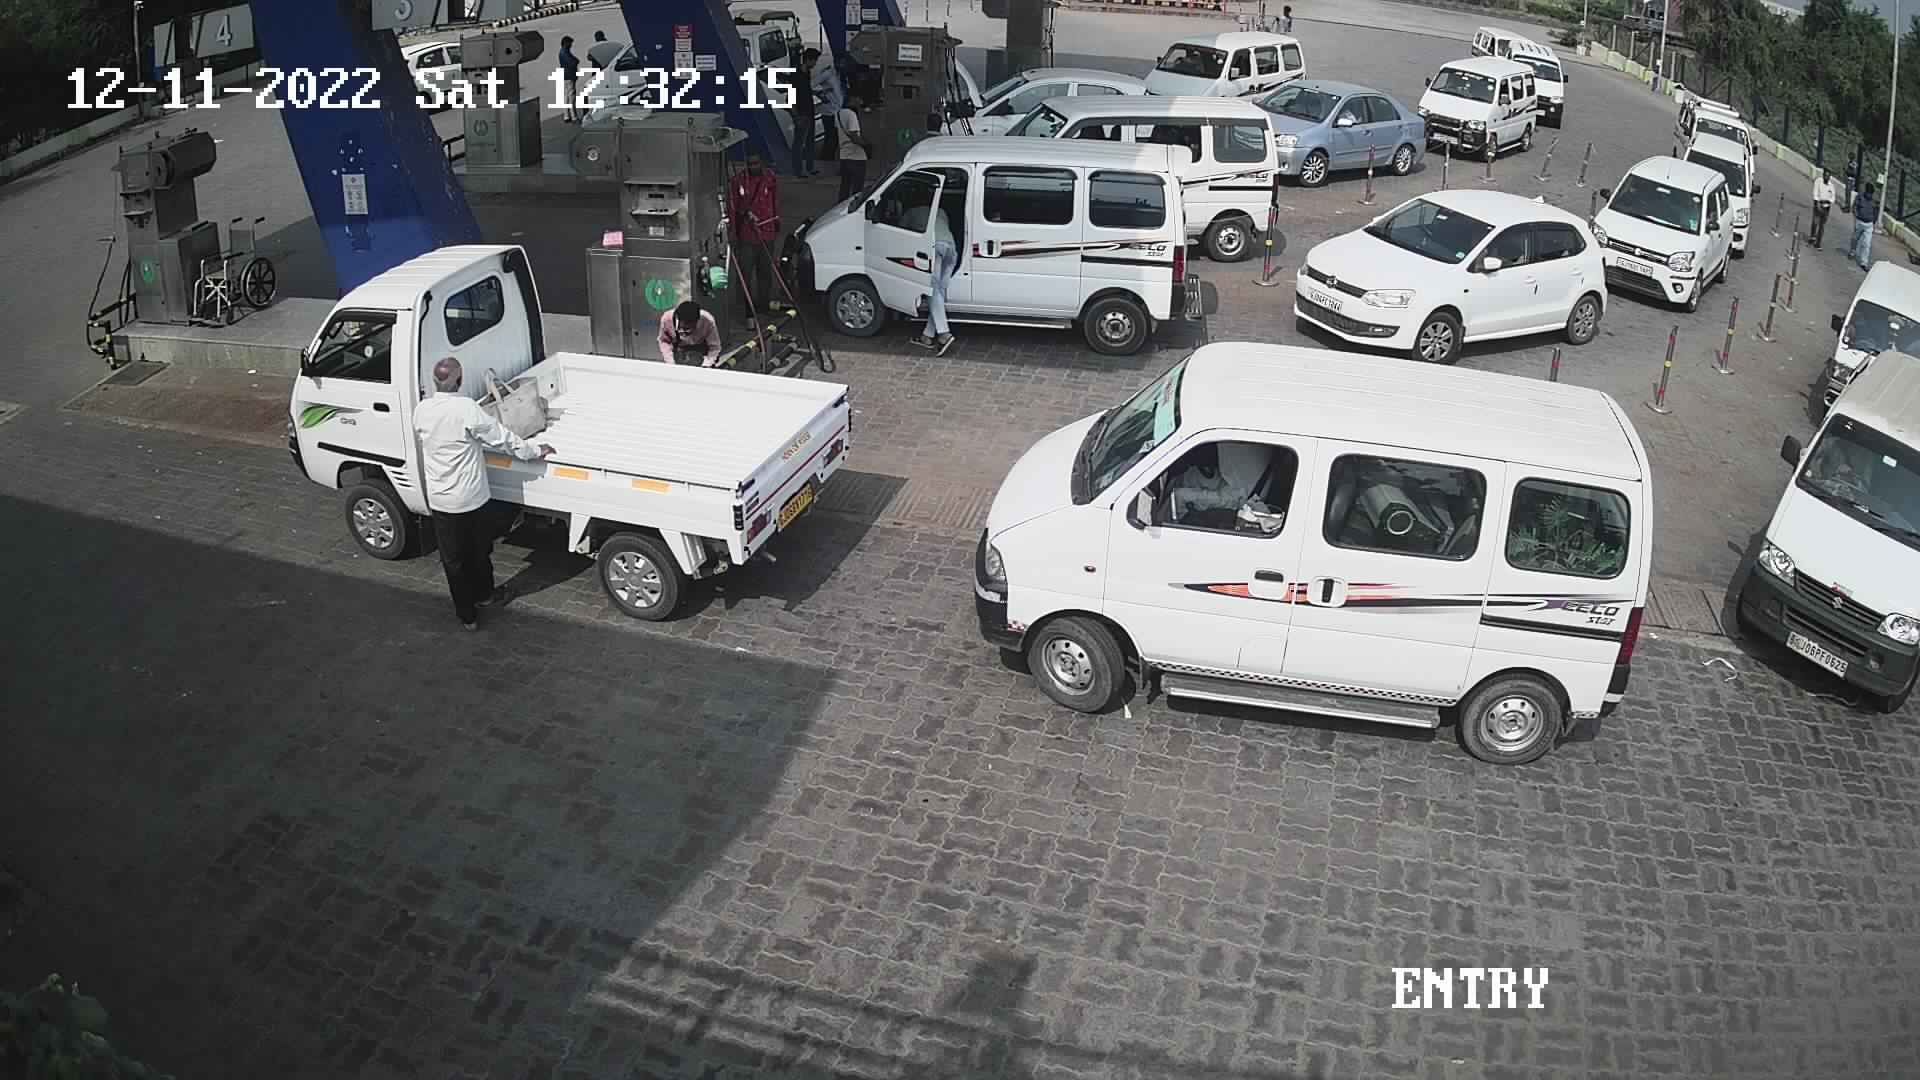Auto: (720, 0, 808, 80)
Car: (977, 328, 1660, 773), (281, 236, 860, 626), (774, 128, 1213, 365), (1727, 338, 1920, 711), (1287, 175, 1611, 375), (990, 84, 1290, 266), (1577, 142, 1753, 315), (1216, 67, 1433, 190), (928, 50, 1160, 137), (1803, 252, 1917, 427), (1408, 47, 1542, 165), (1139, 22, 1313, 109), (1668, 125, 1758, 260), (554, 32, 665, 138), (1665, 83, 1763, 185), (392, 26, 471, 113), (1499, 34, 1569, 132), (1465, 24, 1527, 66)
